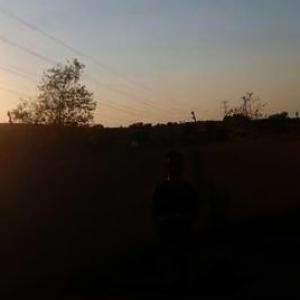follow: (142, 153, 202, 299)
